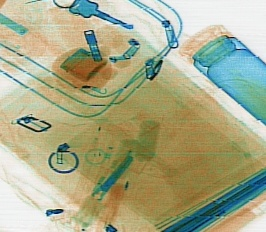scissors: (89, 153, 133, 199)
